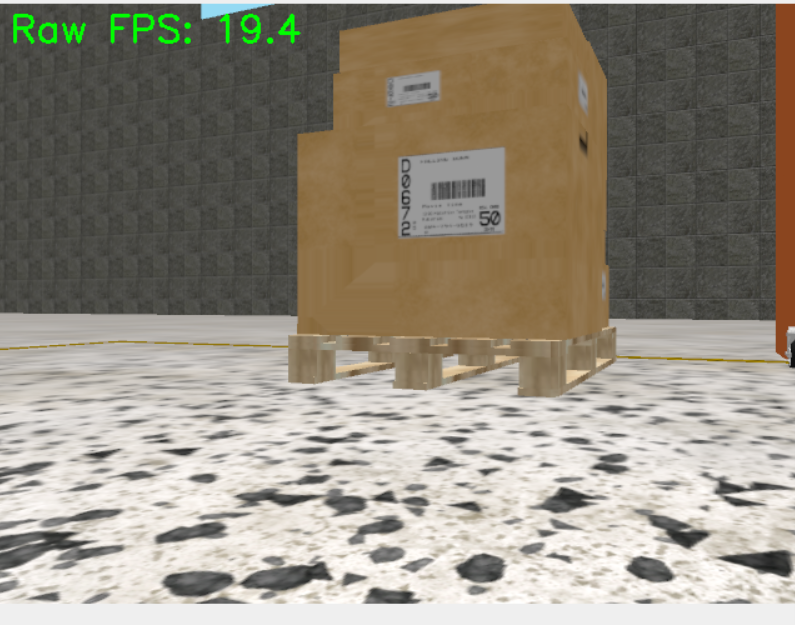barcode: (398, 147, 507, 238), (385, 70, 440, 107)
